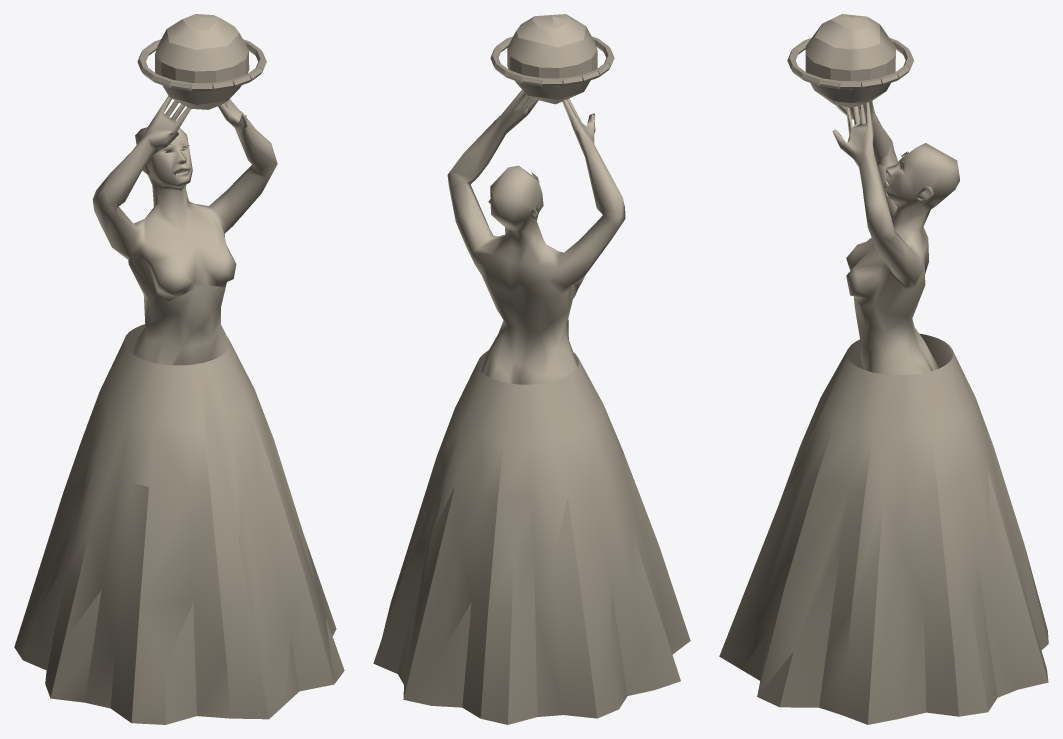
The model's file is hero_e2.glb.
3 renders of one model, left to right at view 1: azimuth 30°, elevation 25°; view 2: azimuth 150°, elevation 25°; view 3: azimuth 270°, elevation 25°, orthographic. The views are drawn at different scales.
Visible parts, largest first — view 1: HERO_E22; view 2: HERO_E22; view 3: HERO_E22.
Boxes of the visible parts, x1,y1,x2,y2 form: HERO_E22: [14, 14, 344, 724]; HERO_E22: [373, 14, 690, 724]; HERO_E22: [719, 14, 1048, 724].
Size of the model in its own units: 1.88 by 4.11 by 1.92.
